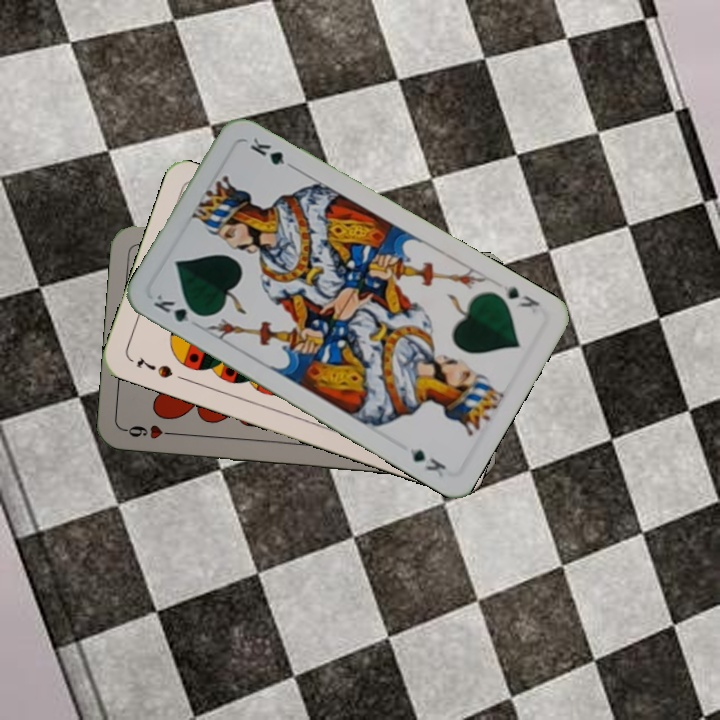GK: (149, 290, 206, 325), (497, 281, 542, 311)
H9: (121, 420, 180, 442)
S7: (132, 352, 175, 381)
